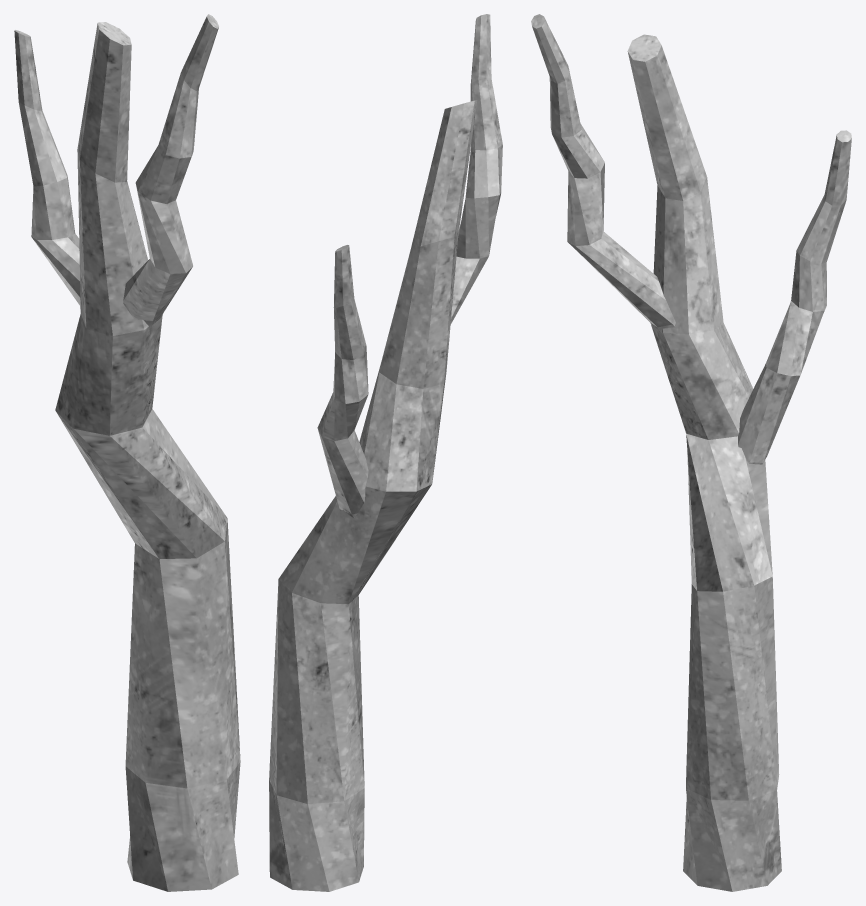
File: Tree5_1.obj
3 renders of one model, left to right at view 1: azimuth 30°, elevation 25°; view 2: azimuth 150°, elevation 25°; view 3: azimuth 270°, elevation 25°, orthographic. The views are drawn at different scales.
Parts seen in each view (by area): view 1: Cylinder.002; view 2: Cylinder.002; view 3: Cylinder.002.
Part boxes in pixels (<box>): Cylinder.002: <box>14,14,240,891</box>; Cylinder.002: <box>269,14,502,891</box>; Cylinder.002: <box>531,14,851,891</box>.
Bounding box in the file's own units: 4.85 × 23.93 × 8.48.
1 material, 1 textured.
